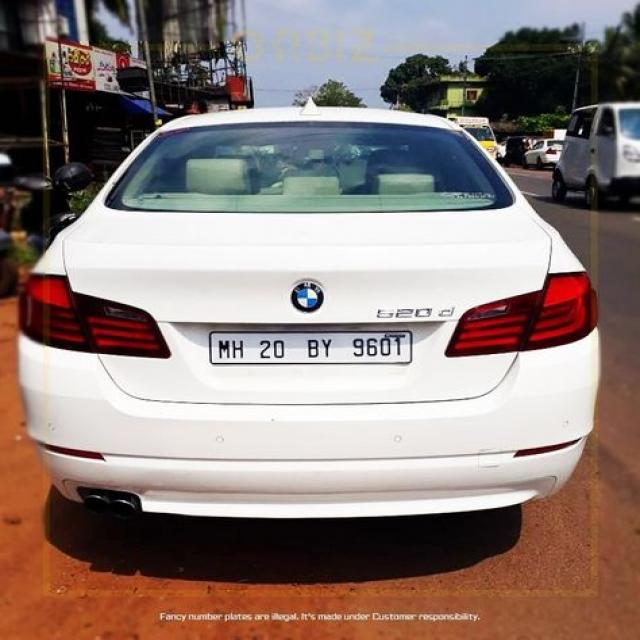Number-Plate: (211, 328, 412, 363)
